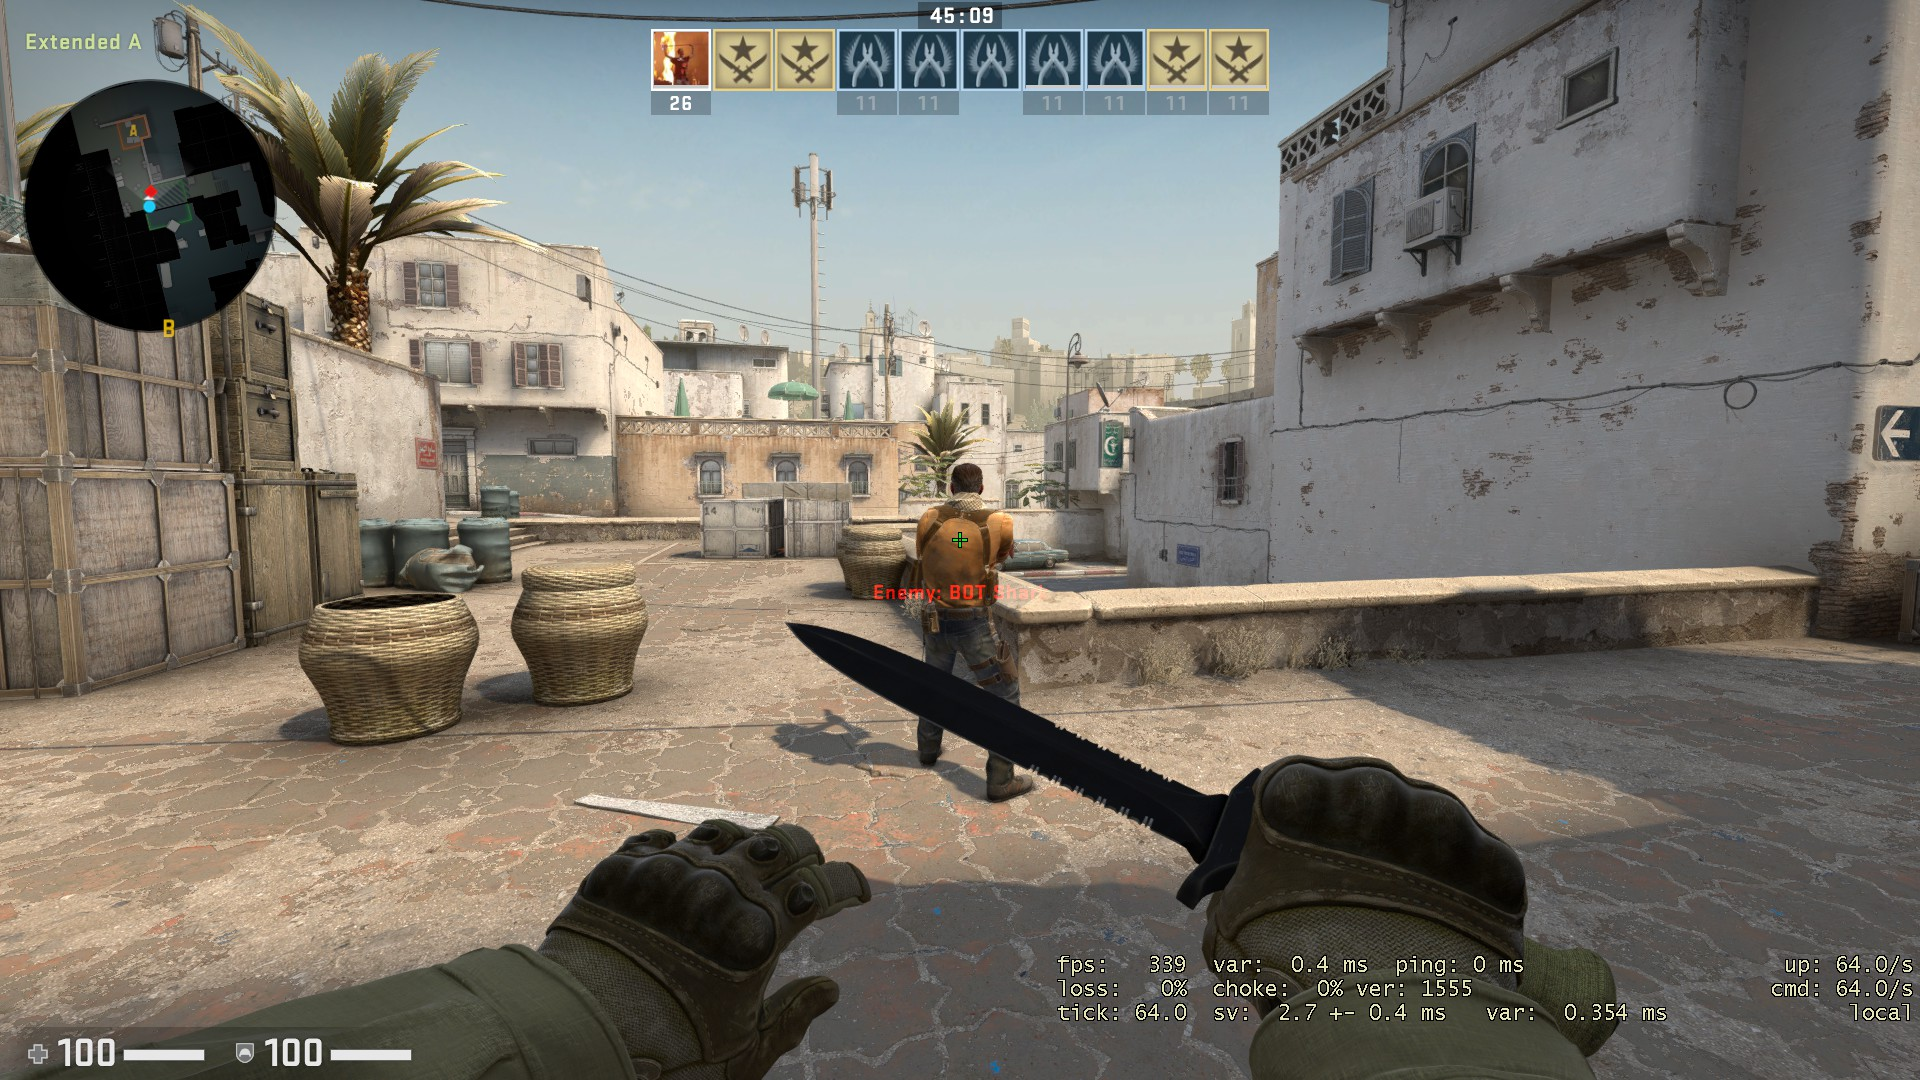player: (907, 460, 1037, 808)
